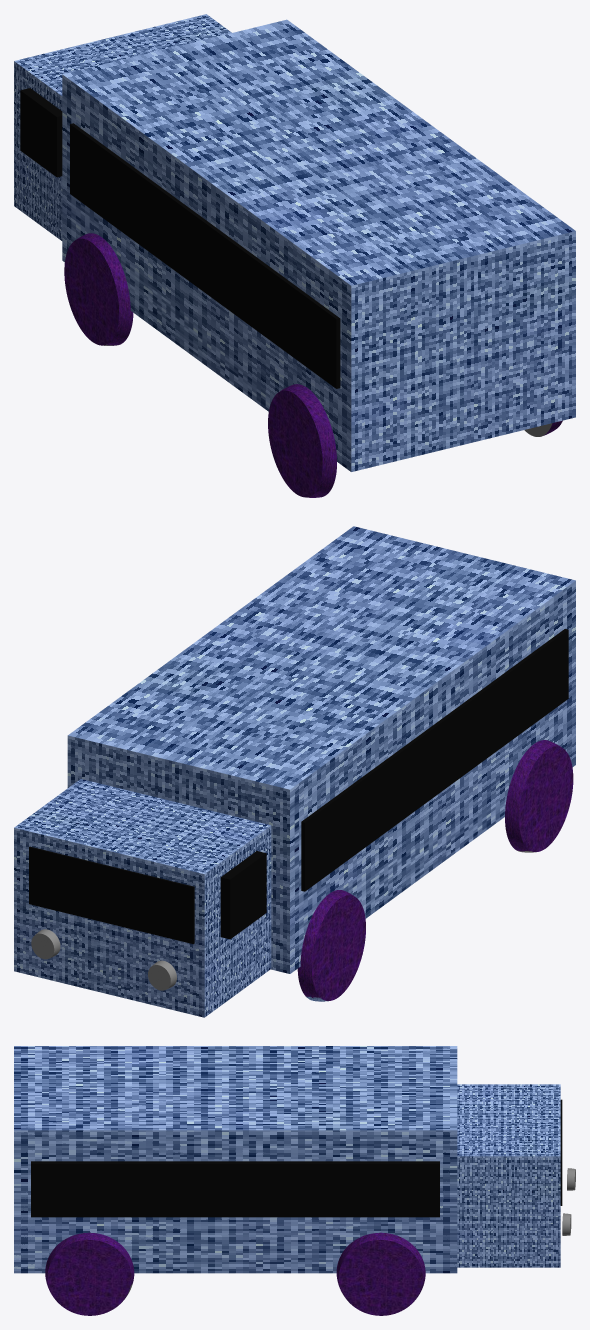
File: najjaciKAMIONN_text.gltf
The picture shows the model from 3 angles, top to bottom: view 1: azimuth 30°, elevation 25°; view 2: azimuth 150°, elevation 25°; view 3: azimuth 270°, elevation 25°; orthographic projection. The views are drawn at different scales.
Size of the model in its own units: 1.47 by 1.33 by 3.68.
Materials: 2 (2 with a texture image).
